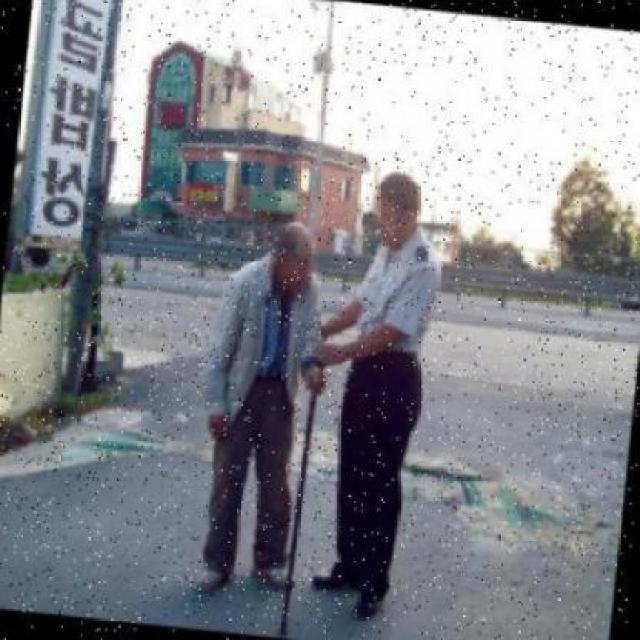sem_oculos: (276, 241, 319, 264), (373, 203, 424, 222)
